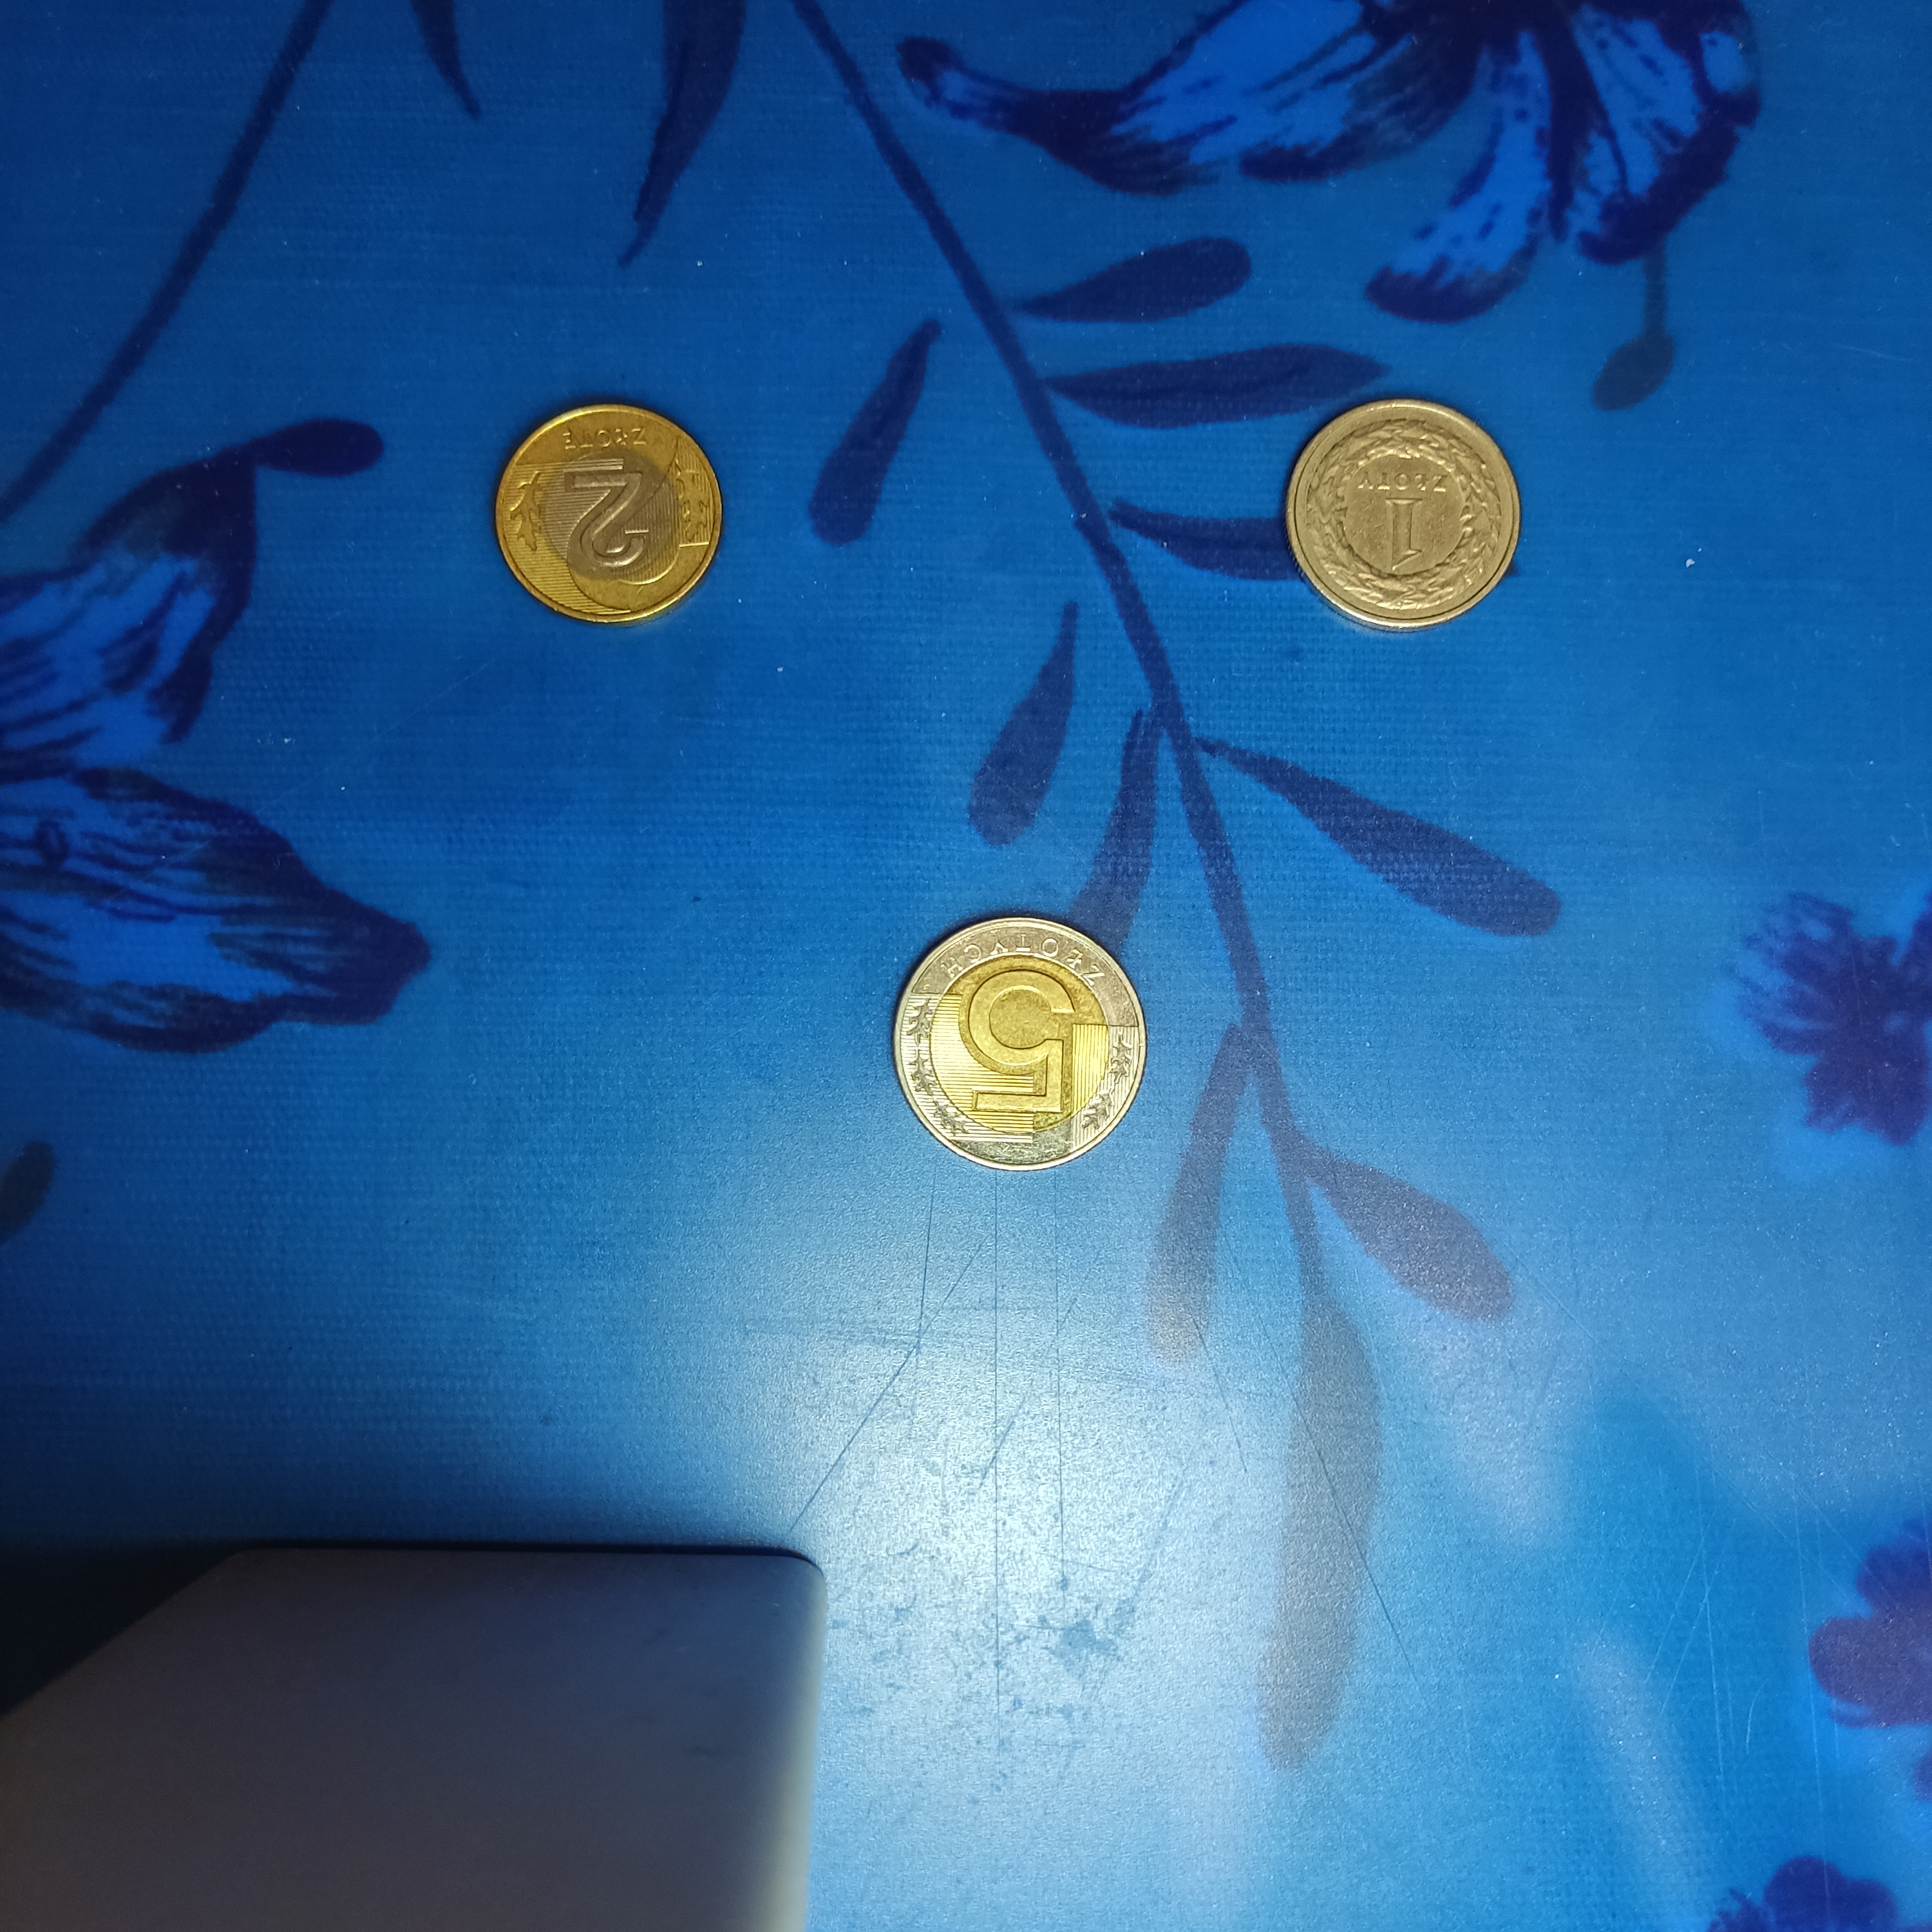1zl: (1281, 401, 1520, 628)
2zl: (494, 404, 721, 623)
5zl: (890, 916, 1145, 1171)
